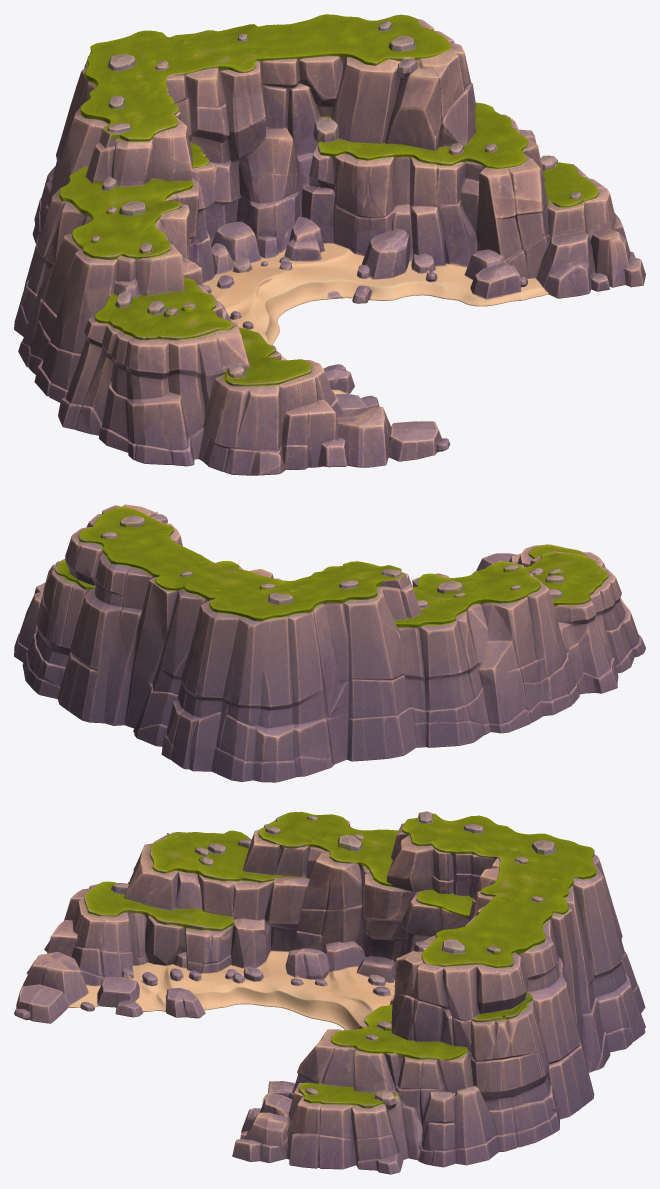
Rendered from 07-cliff-concave.glb.
The picture shows the model from 3 angles, top to bottom: view 1: azimuth 30°, elevation 25°; view 2: azimuth 150°, elevation 25°; view 3: azimuth 270°, elevation 25°; orthographic projection. The views are drawn at different scales.
Size of the model in its own units: 1.9 by 0.5387 by 1.88.
1 material, 1 textured.
